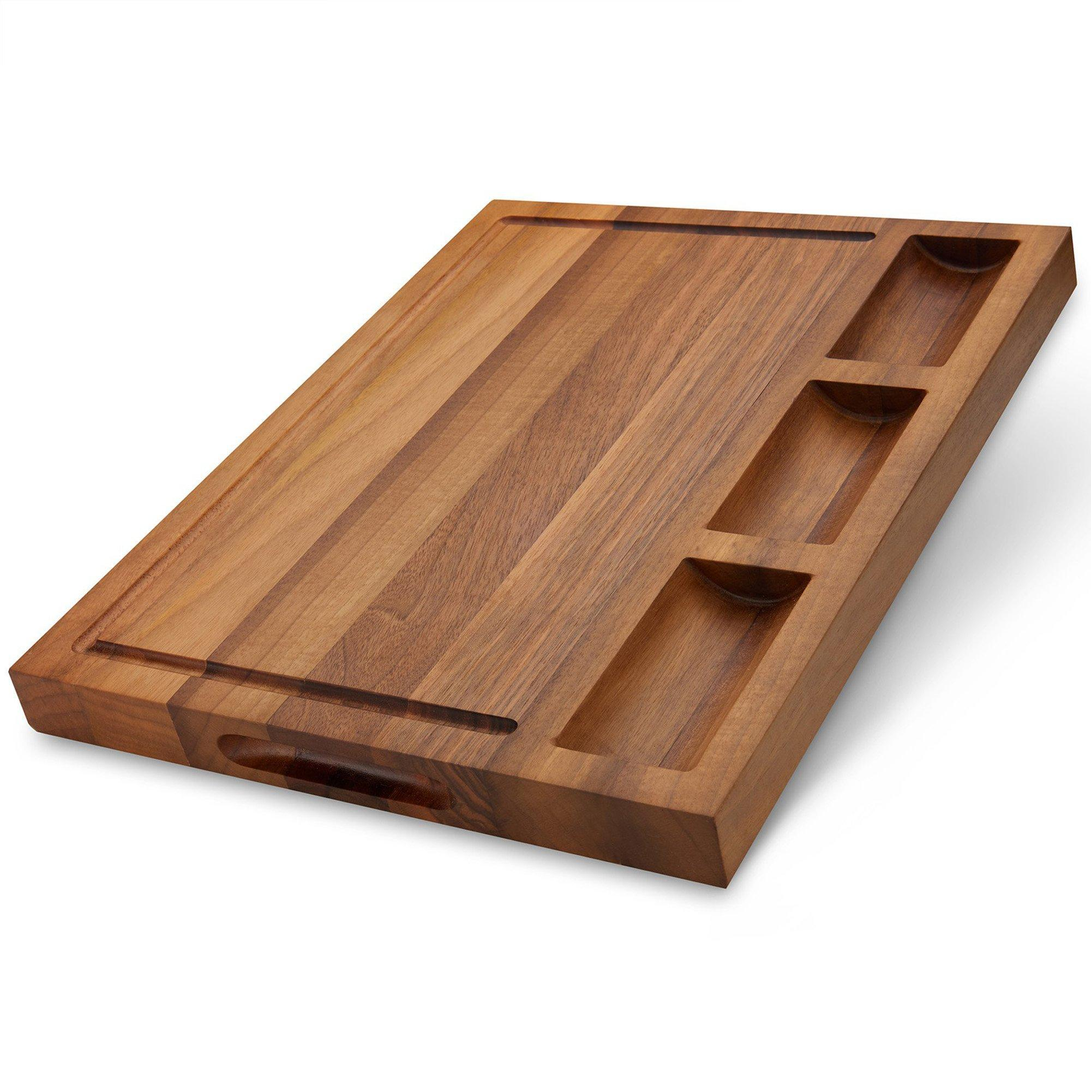gloved_hand: (6, 183, 1091, 894)
